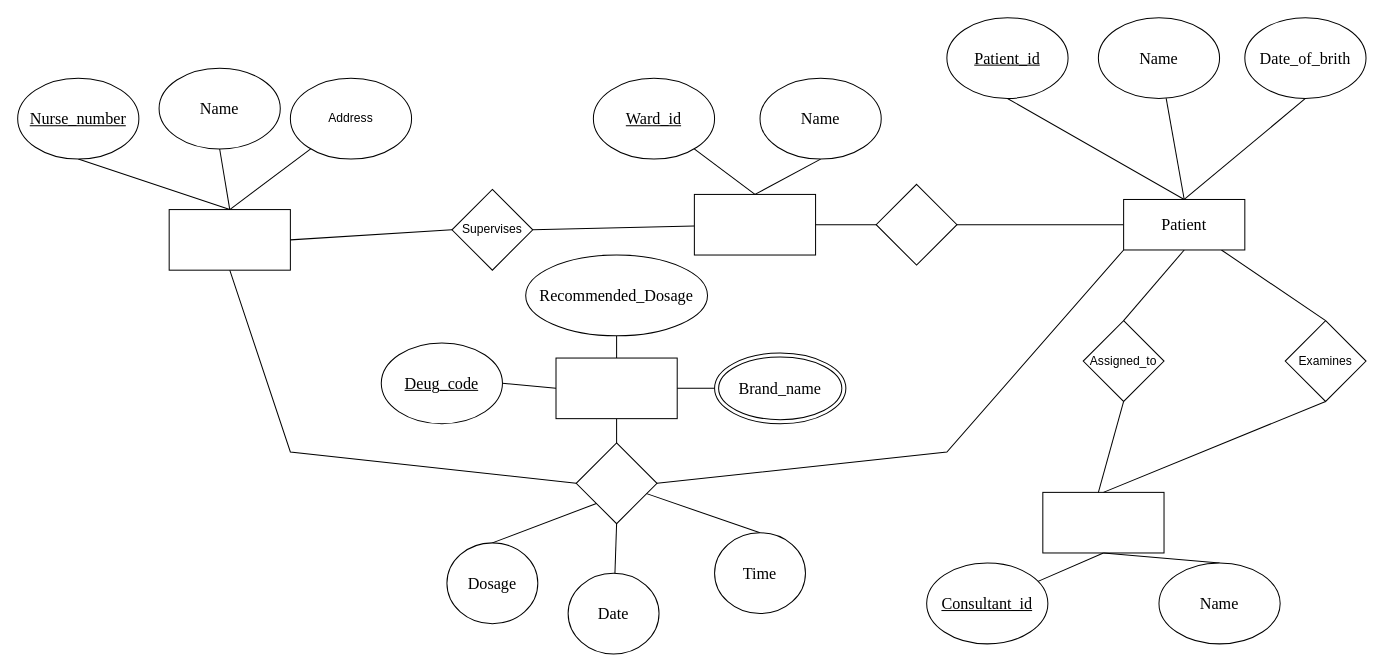
This 1384x672 diagram has some shape labels left out. The shapes that lost their labels are listed below. From the top down, each one's centre as x and y in pixels, then its label:
At pixel 229 239: "Nurse".
At pixel 754 224: "Ward".
At pixel 916 224: "Hosts".
At pixel 616 388: "Drug".
At pixel 616 483: "Adminnisters".
At pixel 1103 522: "Consultant".
